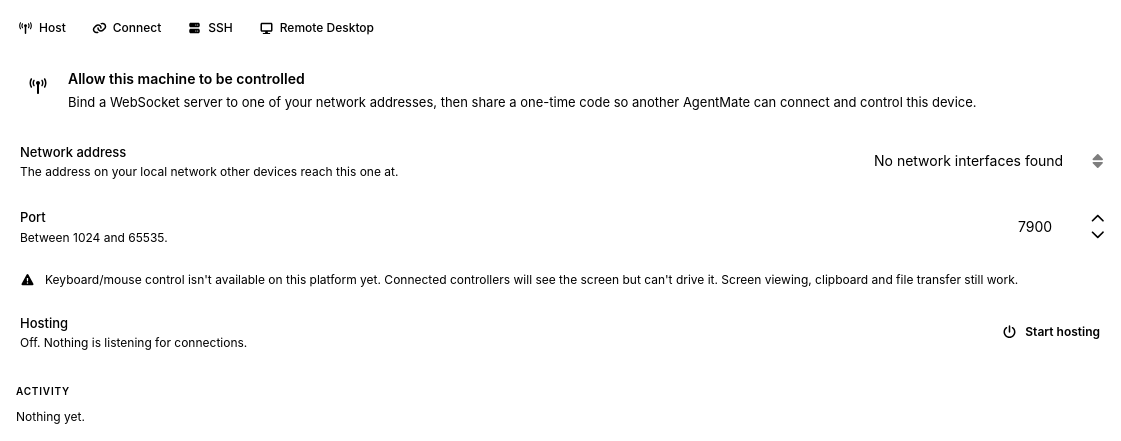
RemotePage views › marks the open view and switches to another
This screenshot has width=1121, height=441.
Click the button "SSH" at (210, 28), box [175,14,245,42]
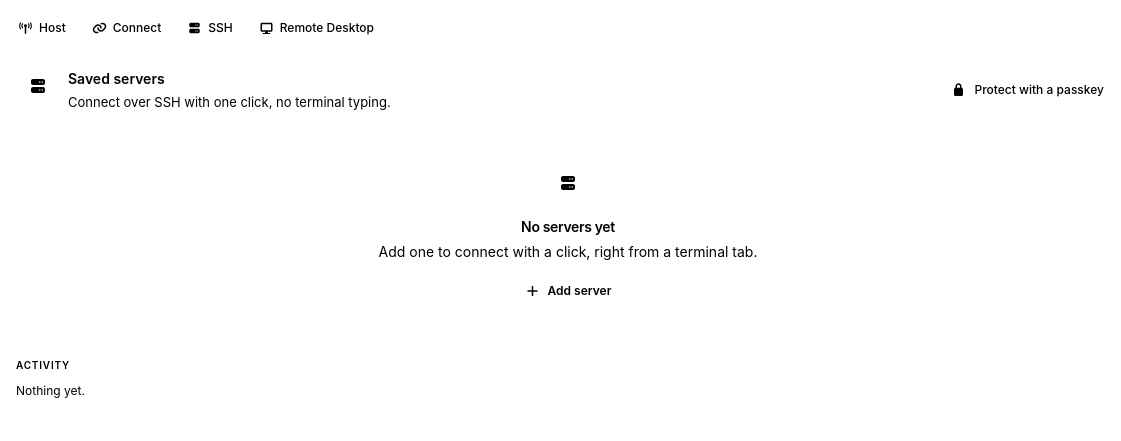
Expected: the text "Connect over SSH with one click, no terminal typing." is shown, [68,92,391,113]
